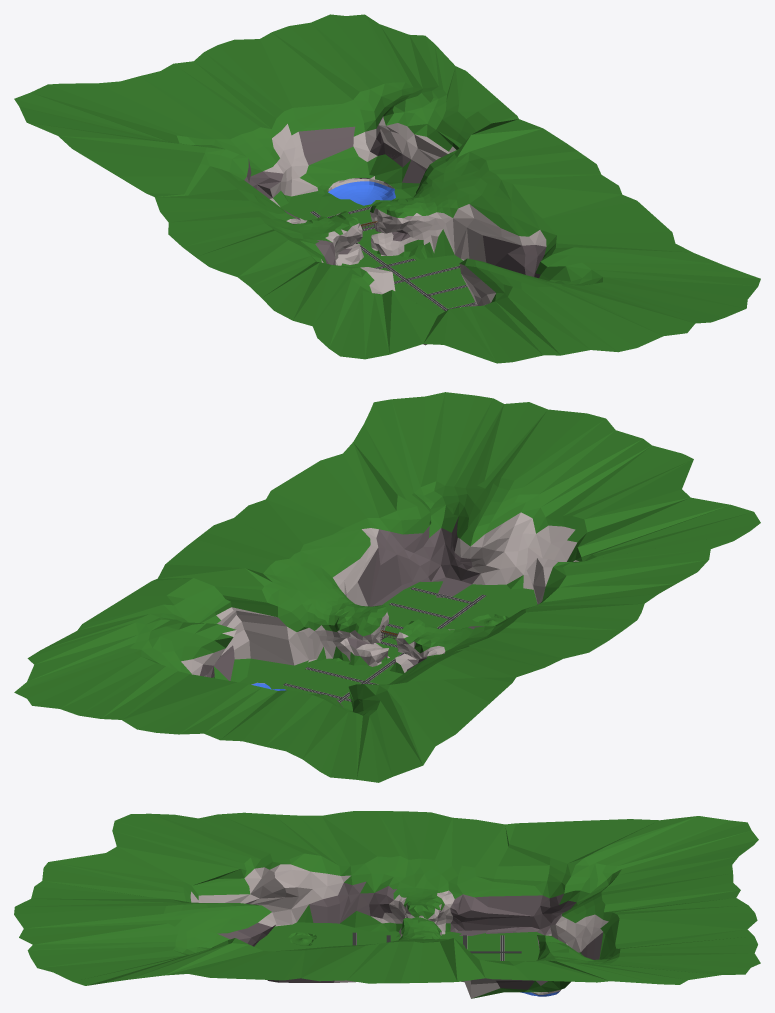
Rendered from groundMap01.glb.
The picture shows the model from 3 angles, top to bottom: view 1: azimuth 30°, elevation 25°; view 2: azimuth 150°, elevation 25°; view 3: azimuth 270°, elevation 25°; orthographic projection. The views are drawn at different scales.
Visible parts, largest first — view 1: playground; view 2: playground; view 3: playground.
Part boxes in pixels (x1=…): playground: x1=14, y1=14, x2=760, y2=363; playground: x1=14, y1=392, x2=760, y2=782; playground: x1=14, y1=811, x2=760, y2=998.
Size of the model in its own units: 141 by 29.2 by 254.
1 material, 1 textured.
